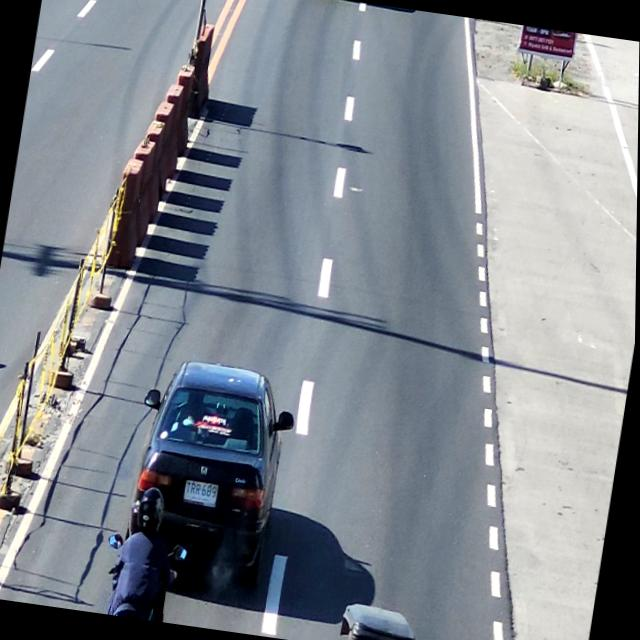Car: (129, 358, 297, 588)
License-Plate: (181, 476, 225, 513)
Motorcycle: (104, 506, 191, 624)
Tricycle: (337, 600, 425, 640)
